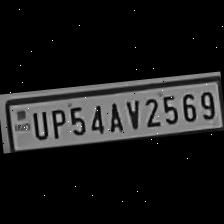2: (139, 92, 161, 128)
4: (86, 98, 108, 133)
5: (64, 100, 88, 136), (158, 90, 180, 126)
6: (177, 88, 198, 122)
9: (194, 86, 216, 120)
A: (102, 96, 124, 132)
P: (46, 103, 67, 139)
U: (28, 106, 50, 141)
V: (121, 94, 143, 130)
